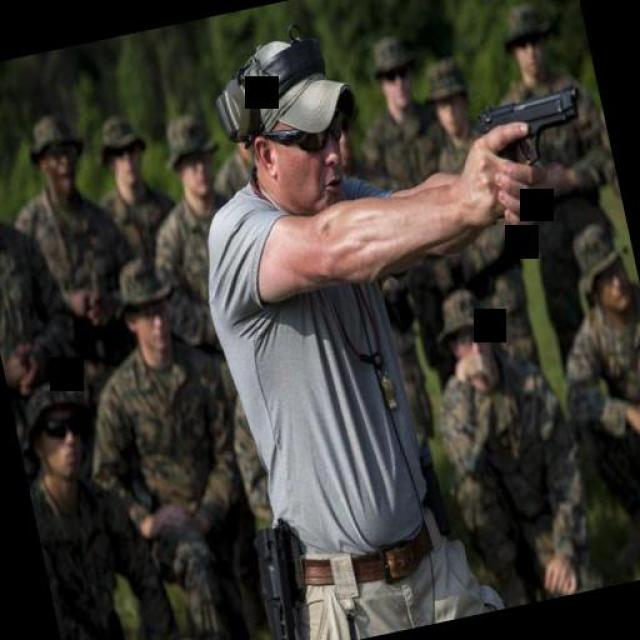gun: (466, 78, 592, 178)
